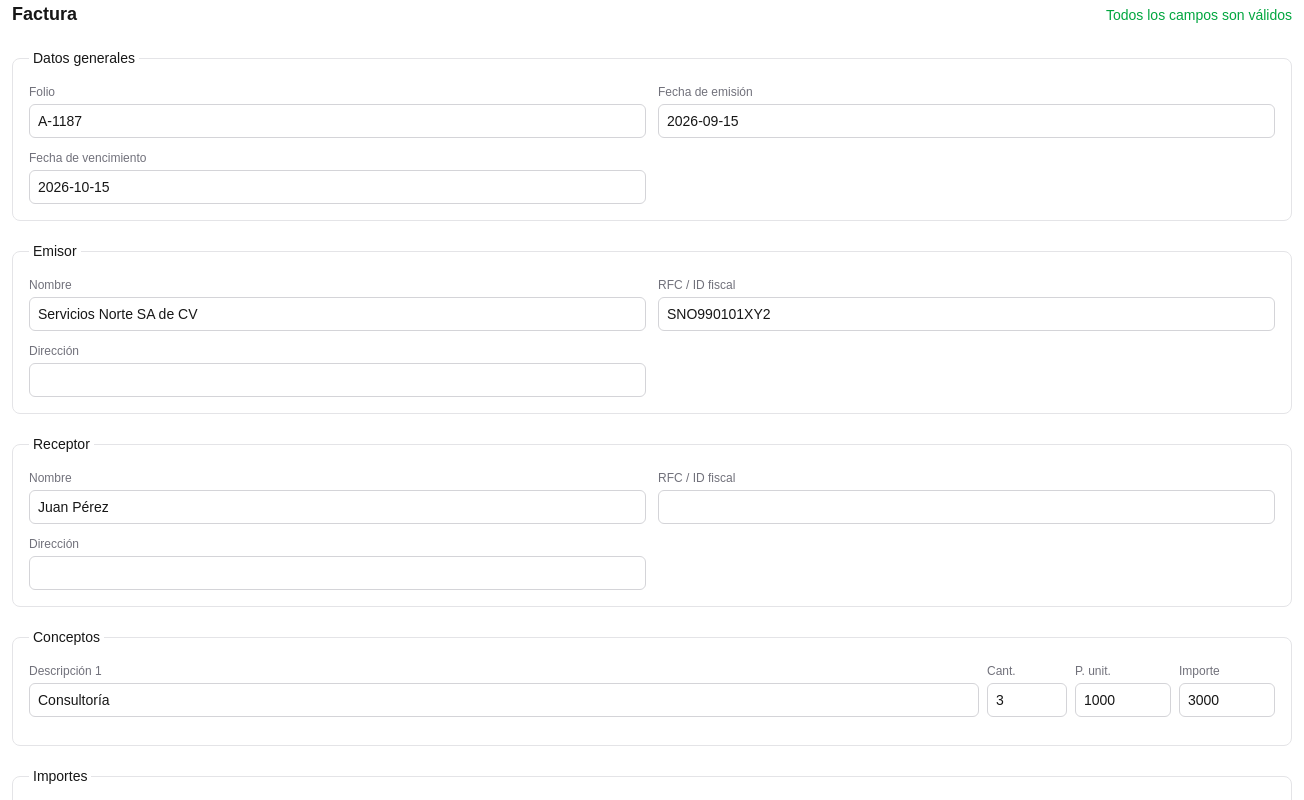
Test: DocumentForm › confirmar › envía el id y los datos editados, y muestra lo guardado
The width and height of the screenshot is (1304, 800).
Replace the text in the field labelled "Folio" with "B-2" at (338, 121), box [29,104,646,138]
(page scrolled)
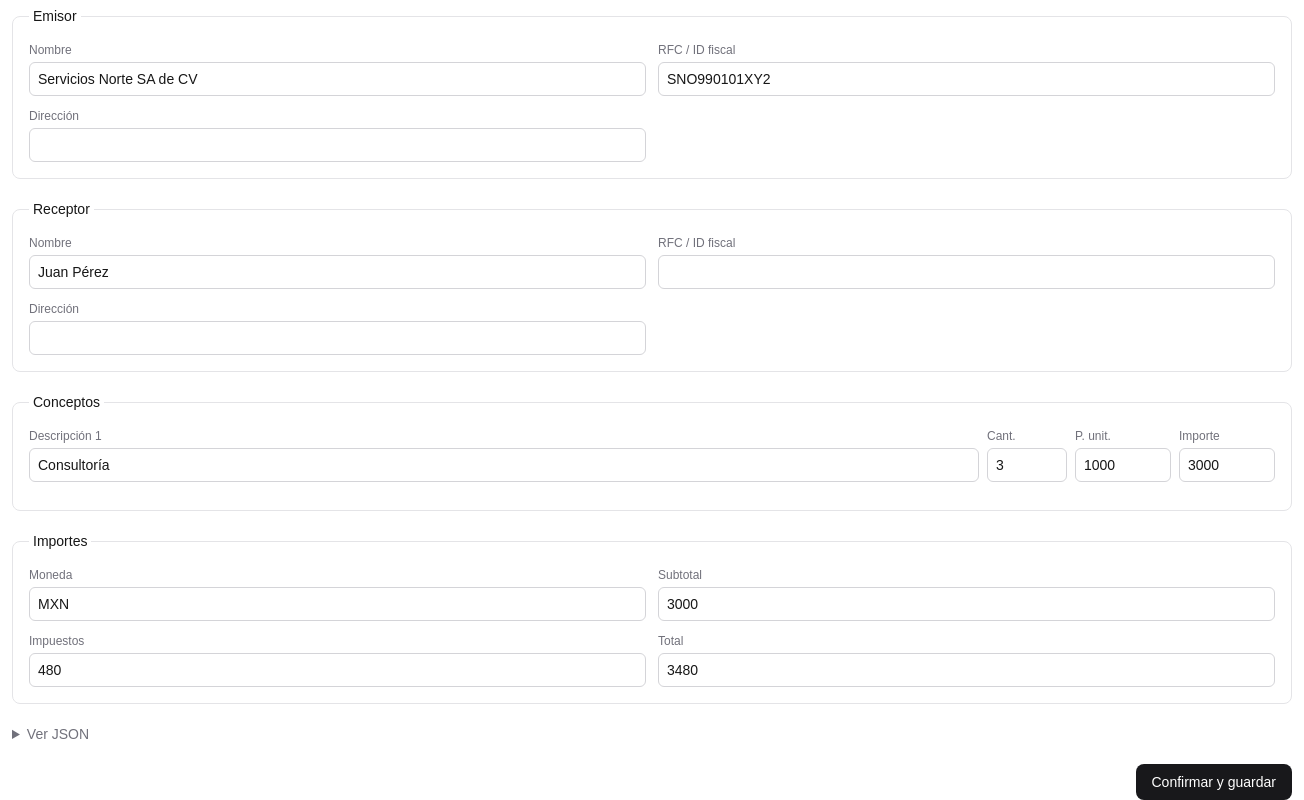
Click the button "Confirmar y guardar" at (1214, 782), box [1136,764,1292,799]
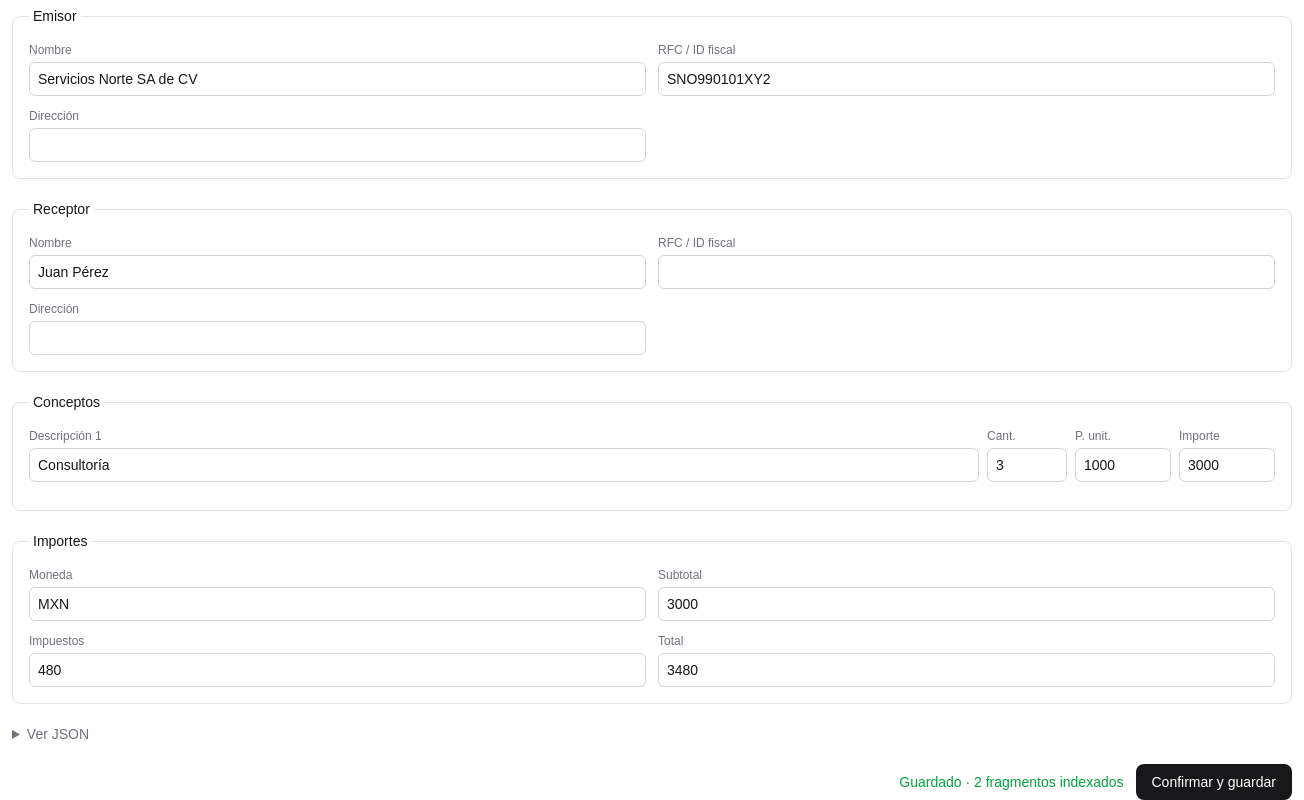
Expected: the text "Guardado · 2 fragmentos indexados" is shown, [899,774,1124,790]
